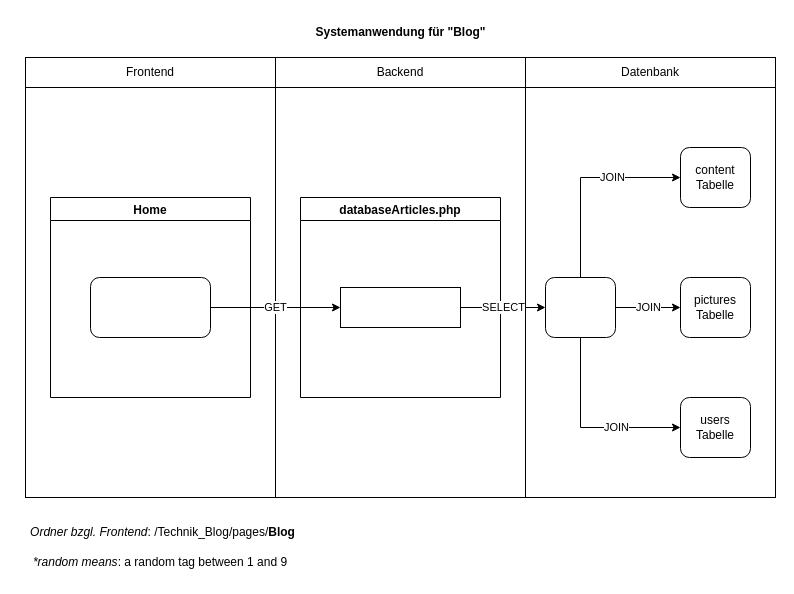
Some shapes in this 794 by 594 pixel diagram are drawn without their labels. The centre of each missing label's shape, as x and y in pixels:
"Articles" belongs at point 150,307.
"articles Tabelle" belongs at point 580,307.
"Get 1 article by a random tag*" belongs at point 400,307.
